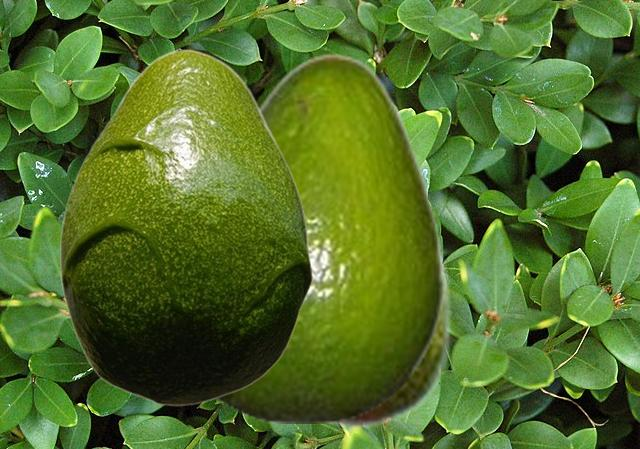avocado: (59, 48, 312, 405), (212, 52, 443, 422), (313, 87, 452, 431)
